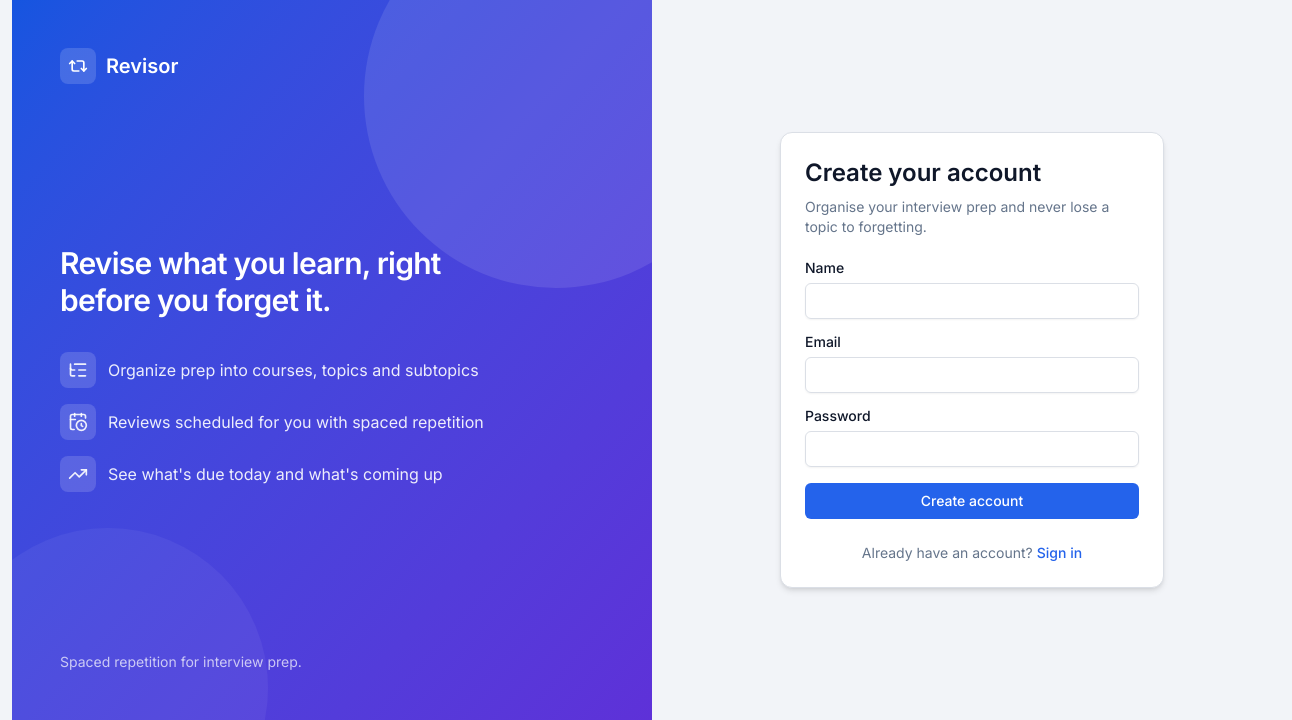
Test case: SignupPage › sends the new user to /check-email with their address, since they cannot sign in until verified
Type "Ann" into the field labelled "Name" at [972, 301], box [805, 283, 1139, 319]
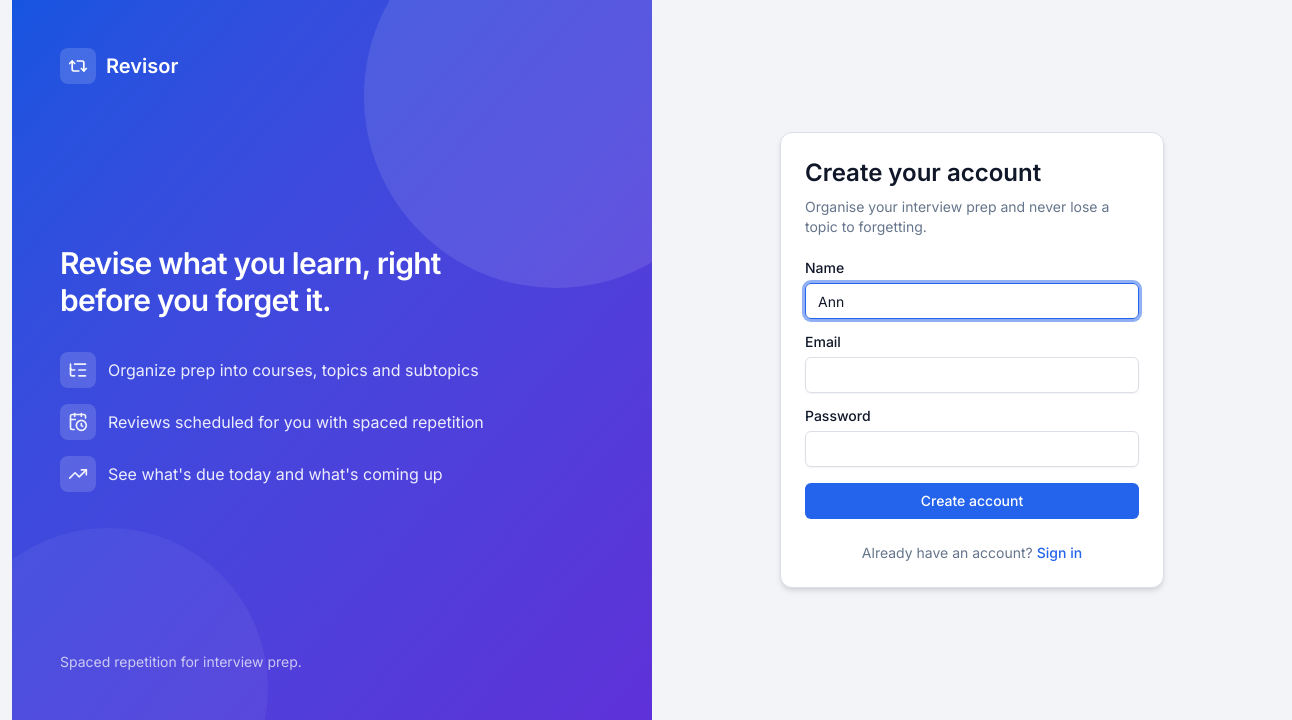
Type " ann@example.com " into the field labelled "Email" at [972, 375], box [805, 357, 1139, 393]
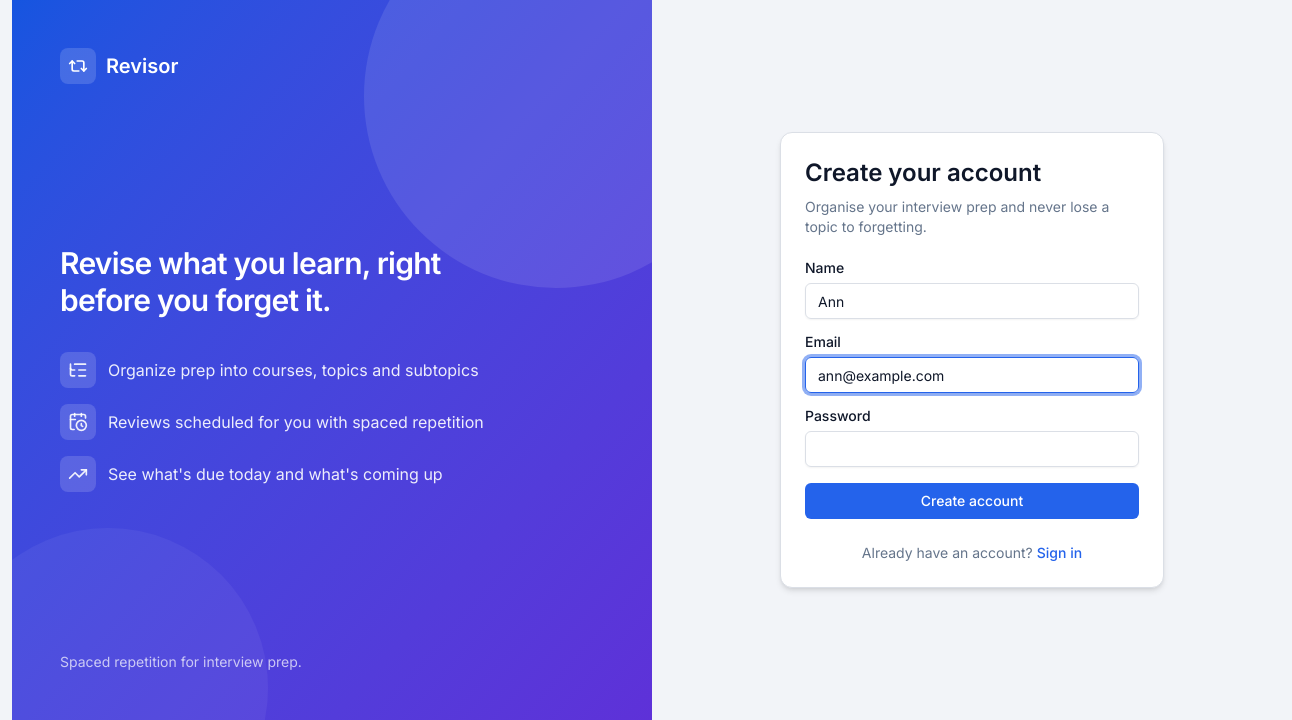
Type "correct-horse" into the password field labelled "Password" at [972, 449], box [805, 431, 1139, 467]
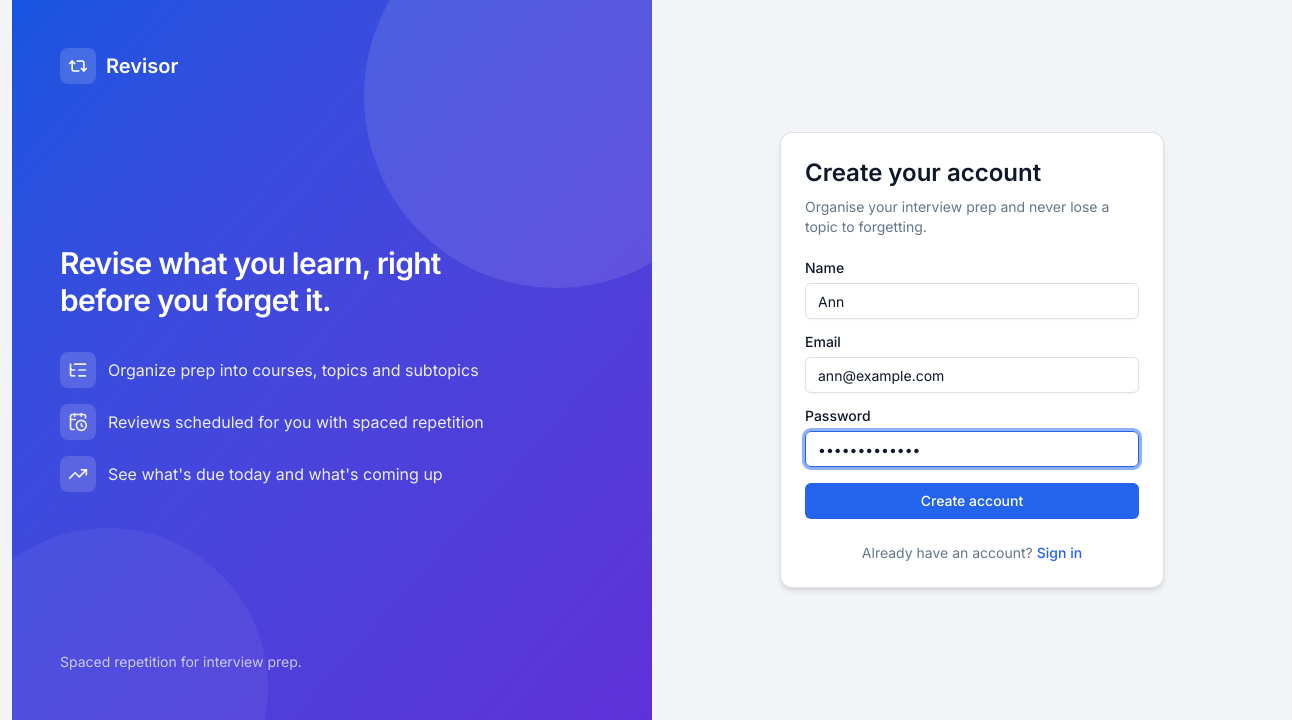
Click the button "Create account" at [972, 501], box [805, 483, 1139, 519]
(page scrolled)
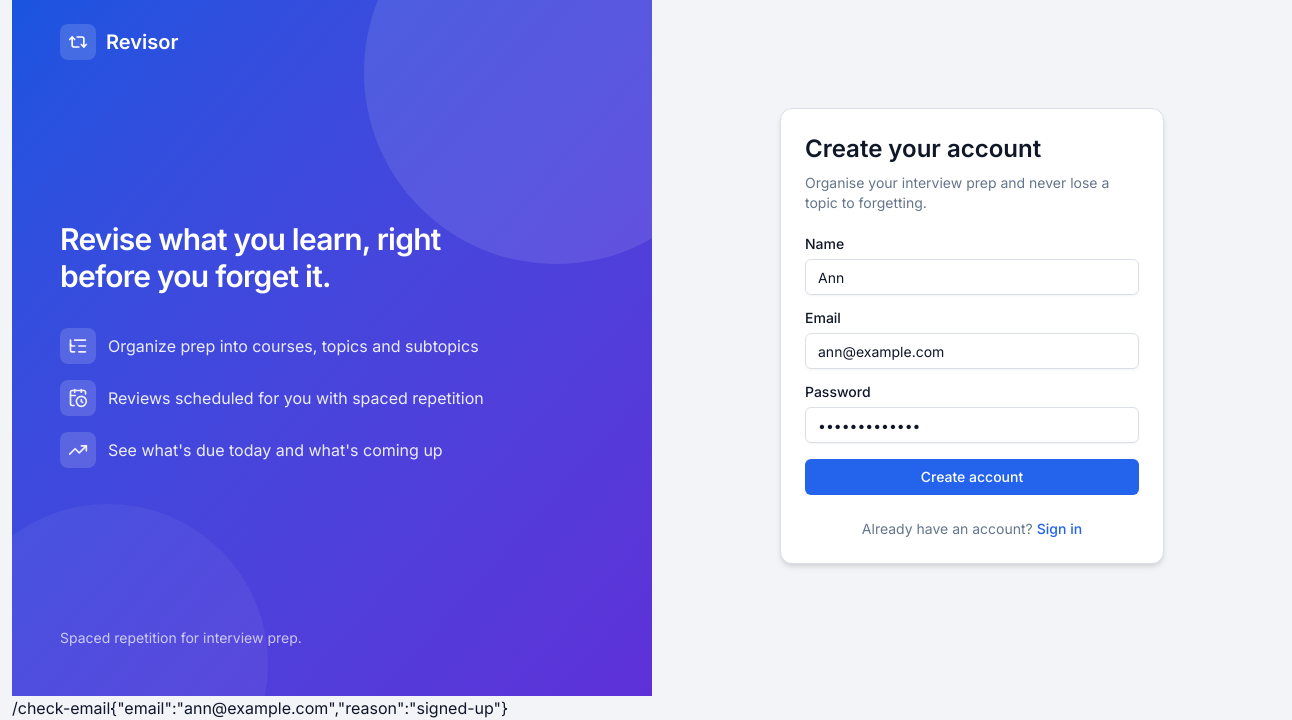
Result: the text with test id "path" reads "/check-email" at [12, 698, 110, 718]
